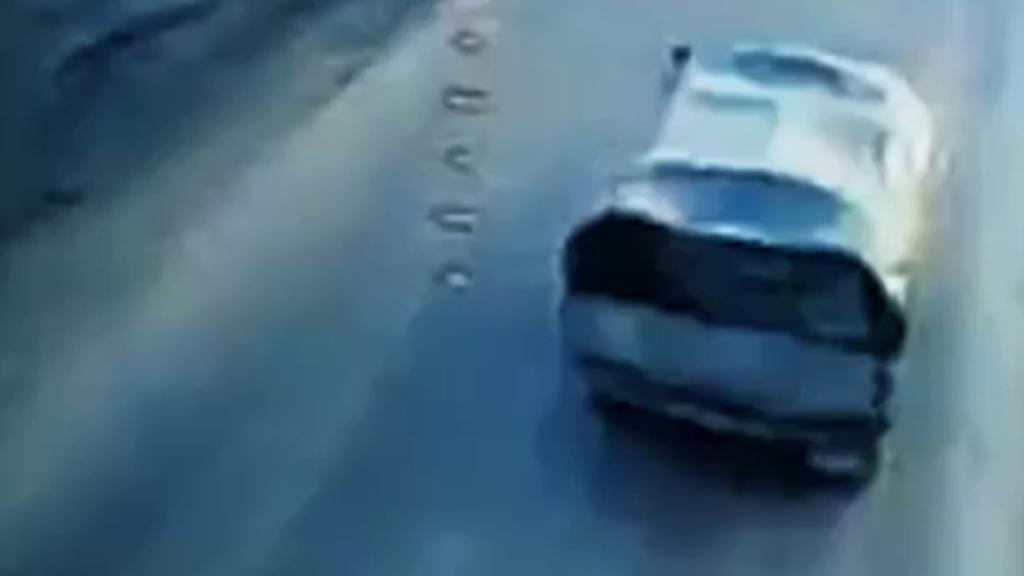TRUCK: (548, 31, 950, 488)
